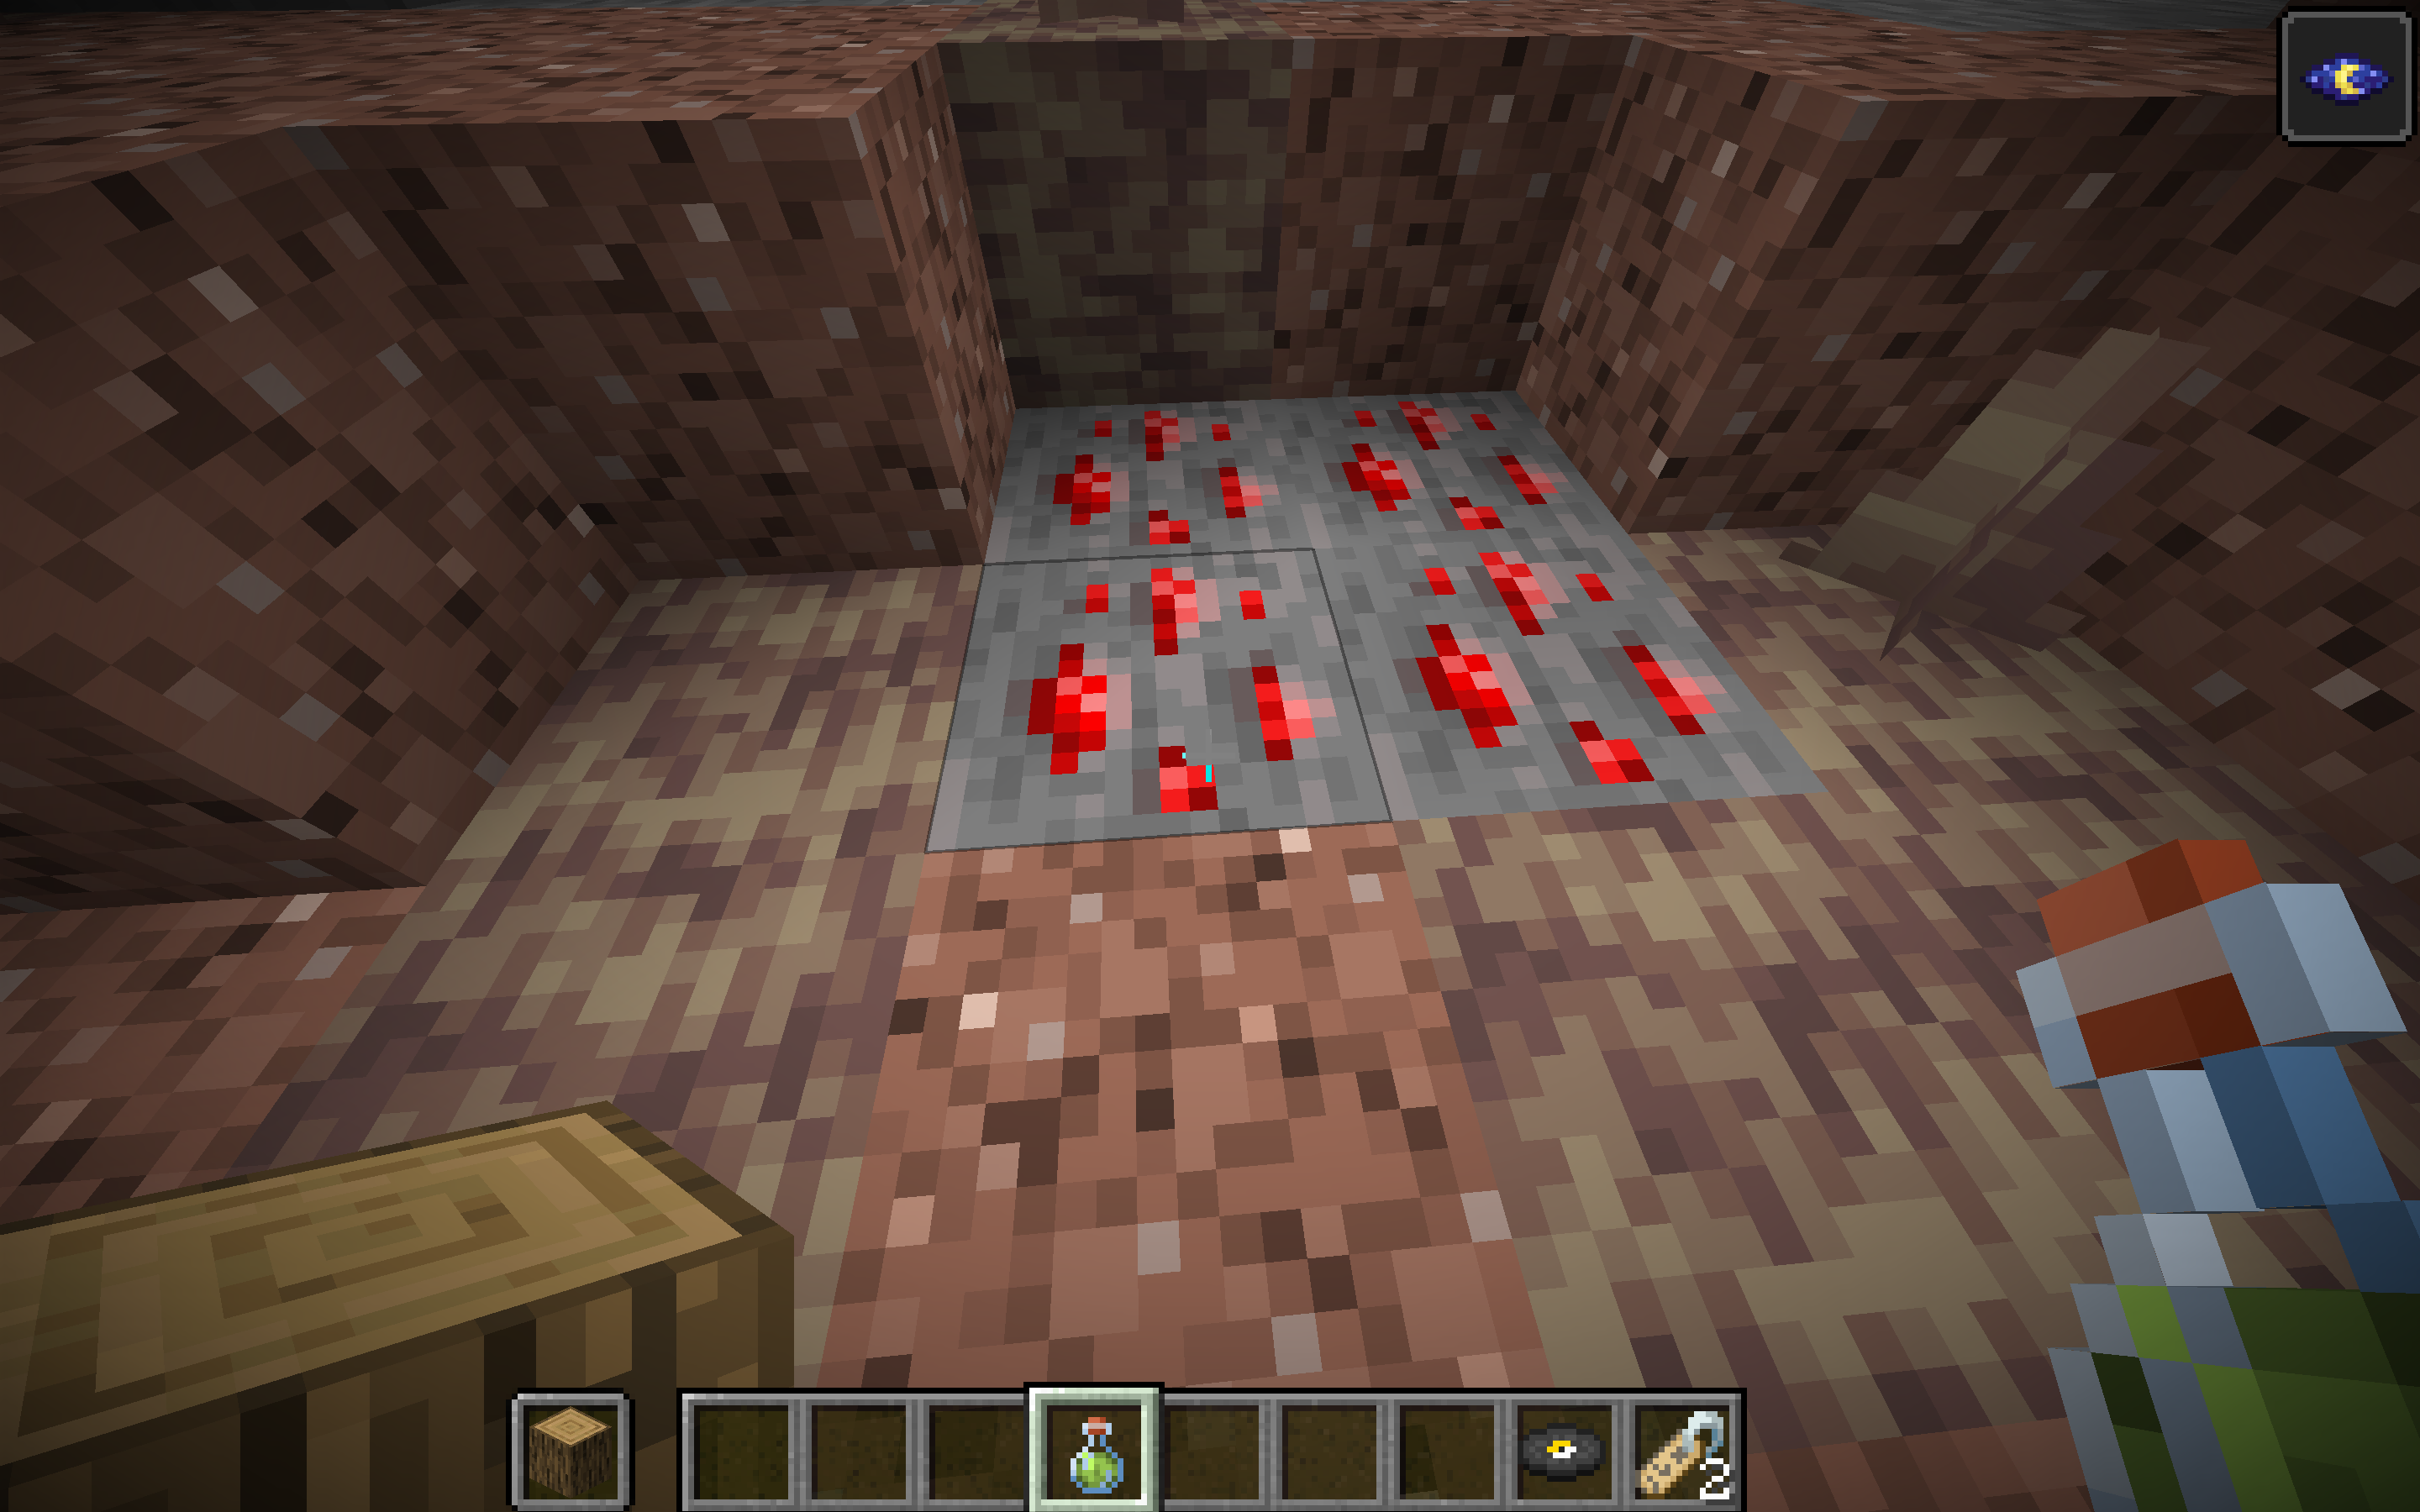redstone: (495, 129, 1974, 1042)
